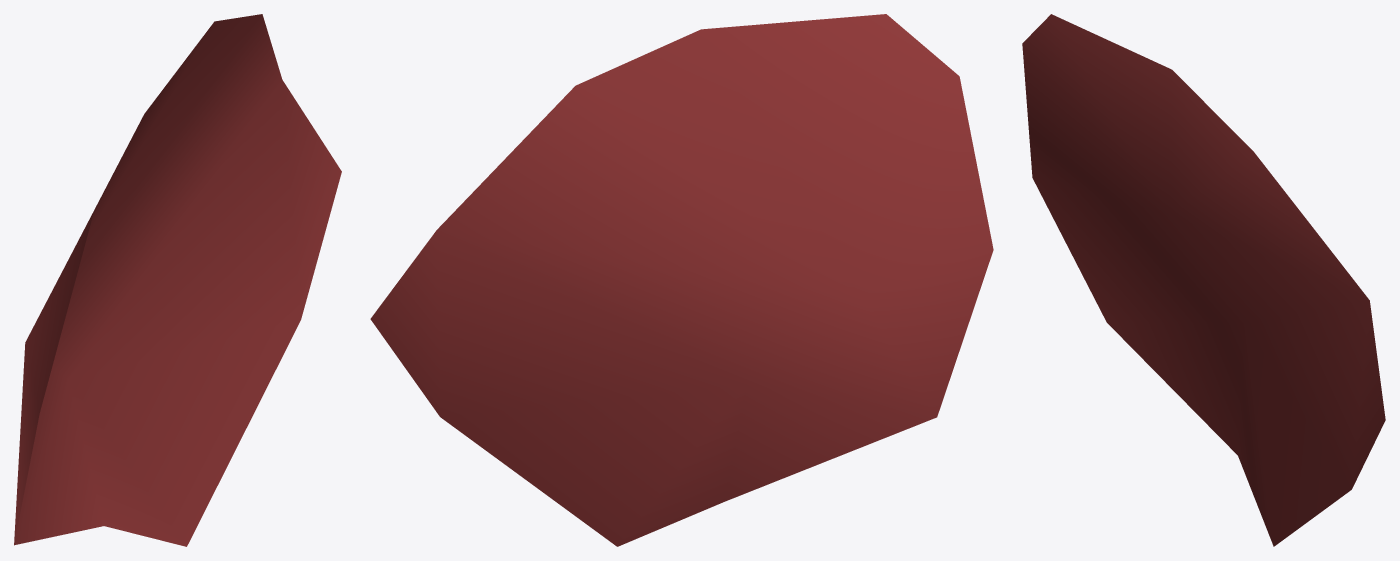
File: extensor-carpi-radialis-longus-er.glb
3 views of the same model, side by side, from view 1: azimuth 30°, elevation 25°; view 2: azimuth 150°, elevation 25°; view 3: azimuth 270°, elevation 25° (orthographic). The views are drawn at different scales.
Visible parts, largest first — view 1: Extensor carpi radialis longus.er; view 2: Extensor carpi radialis longus.er; view 3: Extensor carpi radialis longus.er.
Boxes of the visible parts, x1,y1,x2,y2 form: Extensor carpi radialis longus.er: (14,14,341,546); Extensor carpi radialis longus.er: (370,14,993,546); Extensor carpi radialis longus.er: (1022,14,1385,546).
Bounding box in the file's own units: 0.00557 × 0.0059 × 0.0042.
